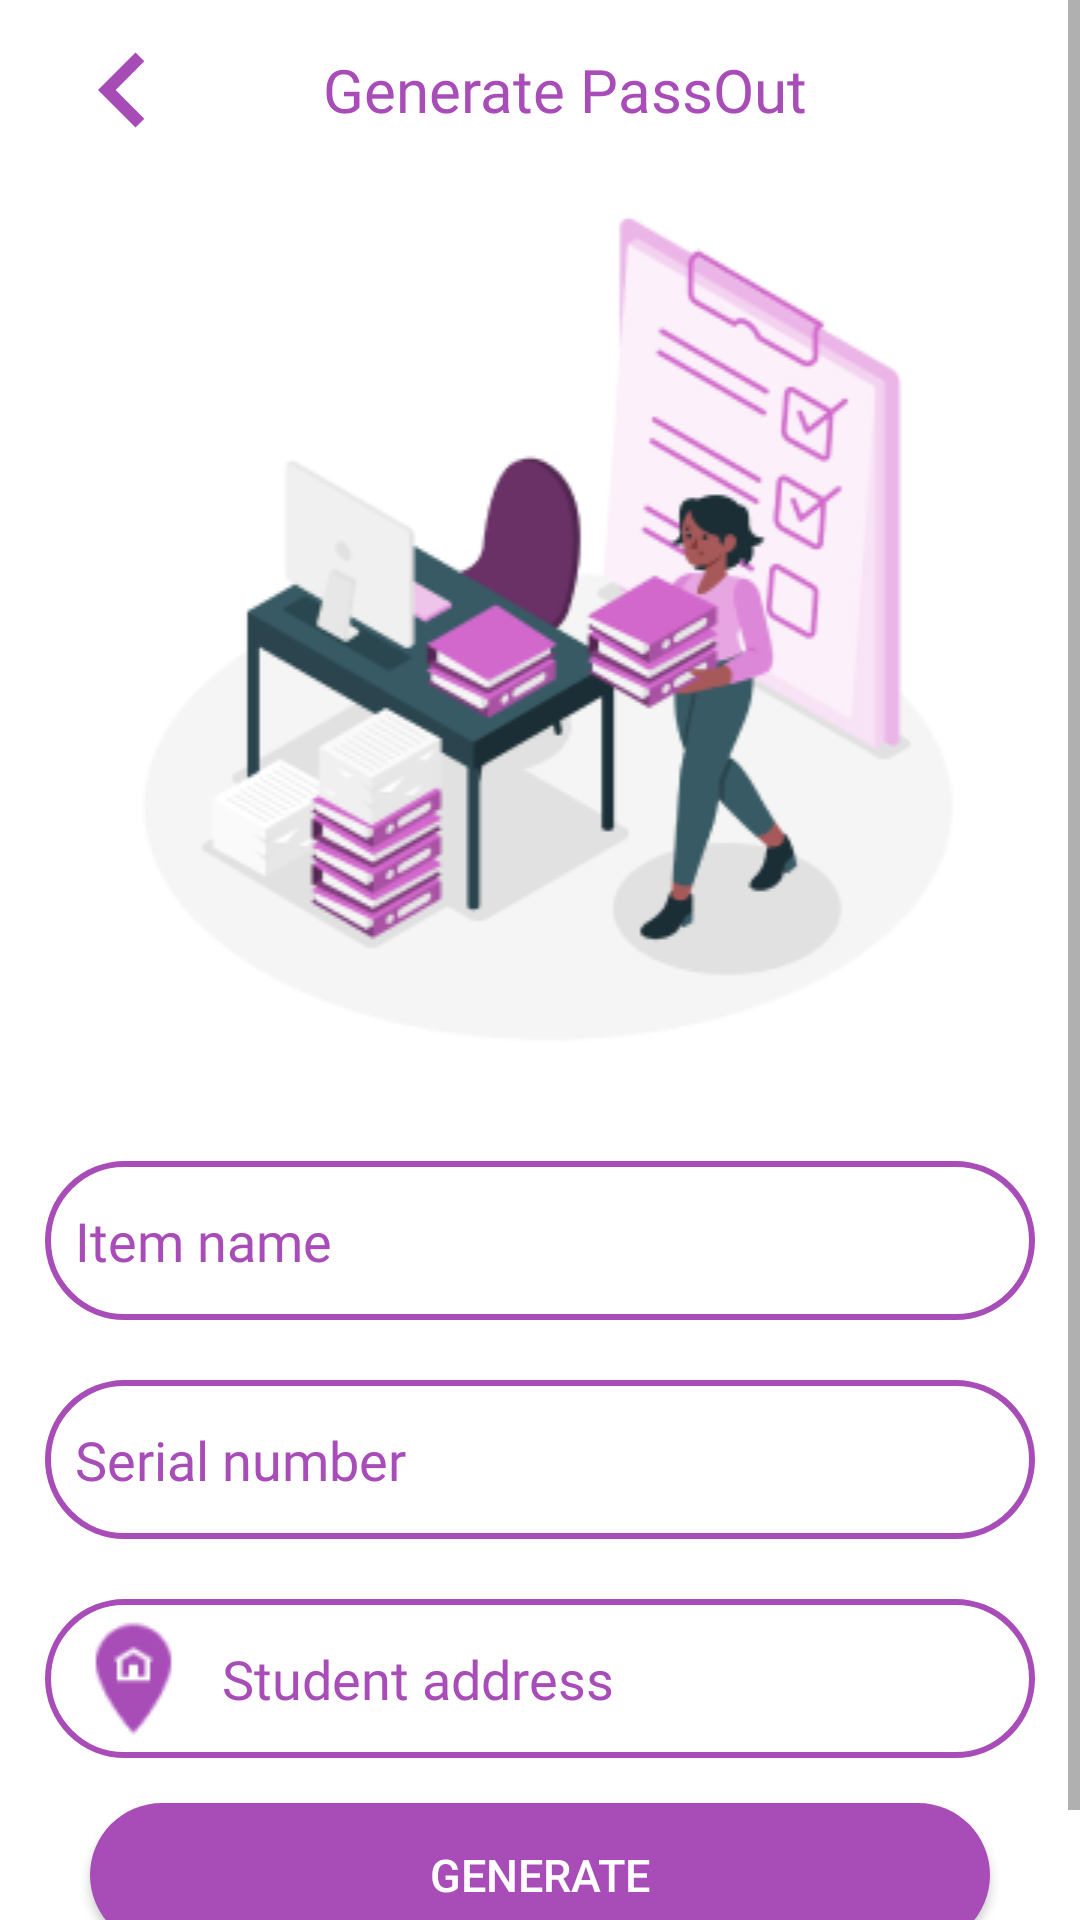

Icon bounding boxes for this 1080 x 1920 phone screenshot, format (x1,y1,x2,y2):
left arrow: (98,52,144,128)
